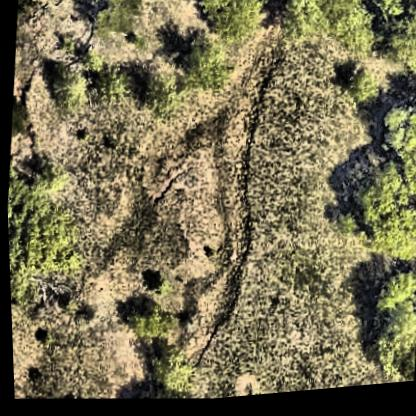tree-top: (5, 157, 86, 280), (333, 165, 416, 272), (350, 266, 416, 387), (314, 0, 385, 68), (187, 0, 266, 49), (175, 38, 232, 103), (137, 345, 199, 403), (267, 0, 332, 53), (379, 1, 416, 82), (132, 65, 183, 122), (76, 0, 139, 41), (374, 109, 416, 169), (48, 64, 93, 116), (119, 302, 174, 343), (339, 73, 383, 113), (92, 64, 132, 103), (365, 0, 416, 21)
